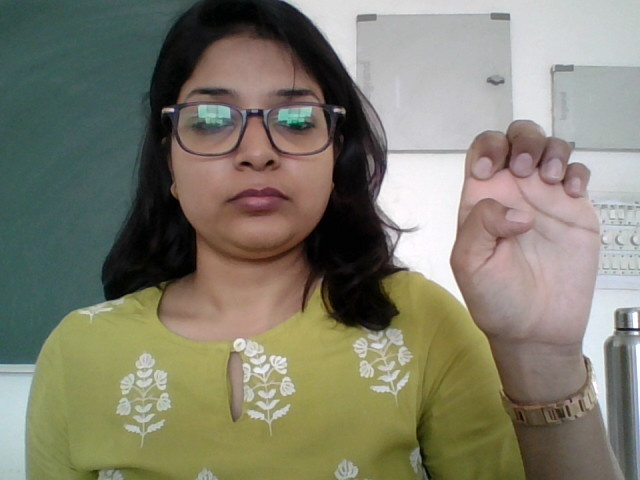E: (448, 118, 616, 346)
